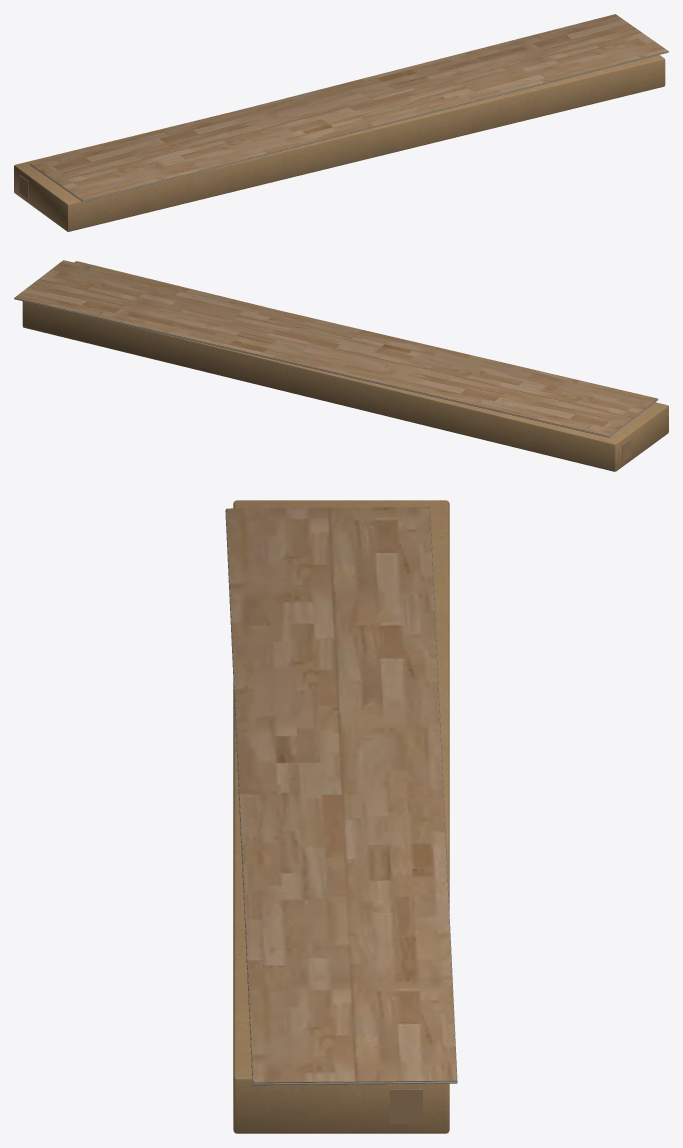
File: PIS-OUT-003.glb
3 views of the same model, one above another, from view 1: azimuth 30°, elevation 25°; view 2: azimuth 150°, elevation 25°; view 3: azimuth 270°, elevation 25° (orthographic). The views are drawn at different scales.
Parts seen in each view (by area): view 1: PIS-OUT-003_face, PIS-OUT-003_caixa, PIS-OUT-003_corpo; view 2: PIS-OUT-003_face, PIS-OUT-003_caixa, PIS-OUT-003_corpo; view 3: PIS-OUT-003_face, PIS-OUT-003_caixa, PIS-OUT-003_corpo, PIS-OUT-003_faixa.
Part boxes in pixels (x1=…): PIS-OUT-003_face: x1=30, y1=14, x2=668, y2=200; PIS-OUT-003_caixa: x1=14, y1=55, x2=665, y2=231; PIS-OUT-003_corpo: x1=29, y1=51, x2=668, y2=201; PIS-OUT-003_face: x1=14, y1=260, x2=657, y2=436; PIS-OUT-003_caixa: x1=22, y1=261, x2=668, y2=471; PIS-OUT-003_corpo: x1=14, y1=298, x2=658, y2=437; PIS-OUT-003_face: x1=226, y1=506, x2=456, y2=1083; PIS-OUT-003_caixa: x1=233, y1=500, x2=449, y2=1133; PIS-OUT-003_corpo: x1=225, y1=508, x2=457, y2=1085; PIS-OUT-003_faixa: x1=389, y1=1089, x2=422, y2=1123.
Size of the model in its own units: 1.25 by 0.0596 by 0.2083.
6 materials, 4 textured.
